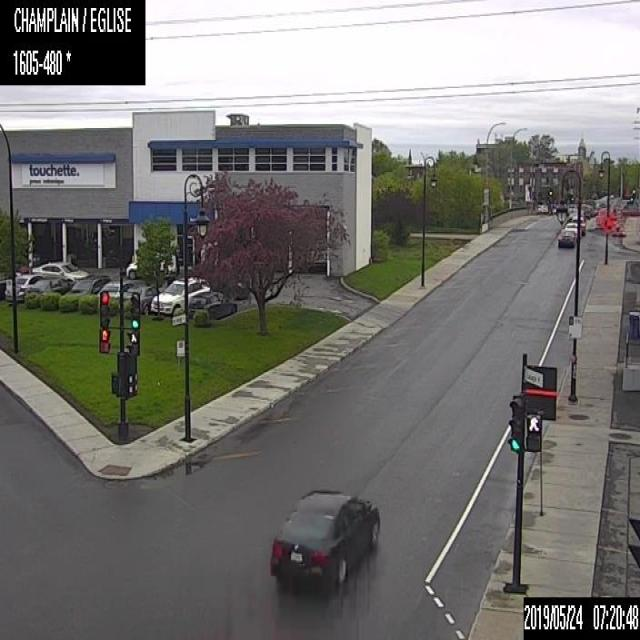construction: (601, 215, 614, 232)
vehicle: (268, 487, 381, 592), (150, 275, 210, 315), (188, 290, 238, 319), (125, 252, 175, 280), (32, 260, 88, 280), (5, 272, 43, 301), (126, 285, 160, 315), (97, 279, 134, 306), (71, 273, 110, 293), (26, 278, 74, 293), (0, 270, 21, 298), (556, 229, 576, 248), (564, 221, 581, 237), (571, 216, 585, 232), (580, 204, 589, 218), (572, 210, 584, 220), (567, 203, 575, 211), (588, 205, 593, 216)
